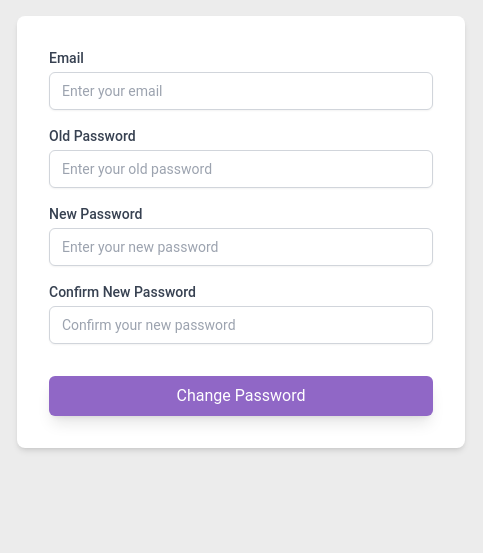
Scenario: ChangePasswordForm suite tests › should display validation errors
Click the button "Change Password" at (241, 396), box [49,376,433,416]
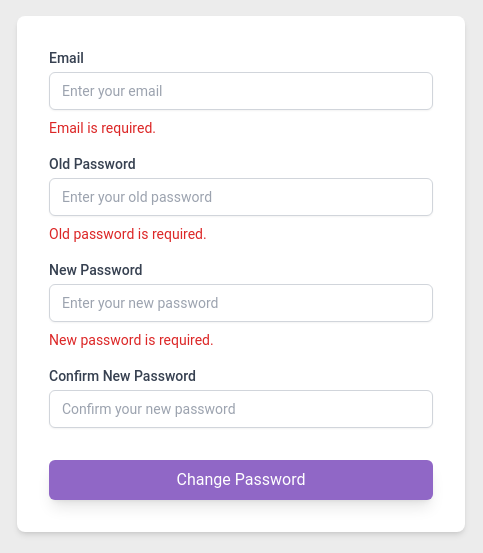
Expected: the text "Email is required." is shown, [49,120,156,136]
Expected: the text "Old password is required." is shown, [49,226,207,242]
Expected: the text "New password is required." is shown, [49,332,214,348]
Type "test@example.com" into the field with placeholder "Enter your email" at (241, 91), box [49,72,433,110]
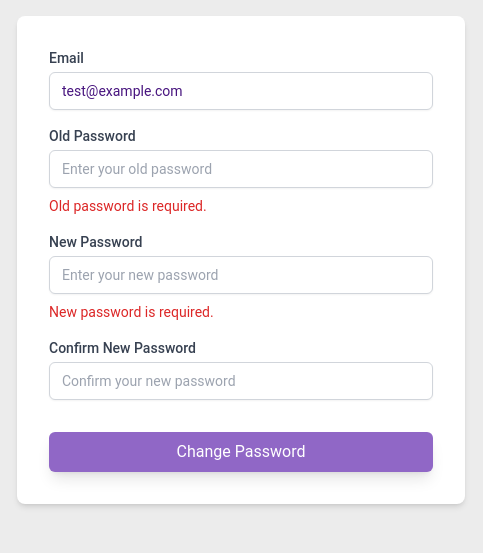
Type "OldPassword1!" into the password field with placeholder "Enter your old password" at (241, 169), box [49,150,433,188]
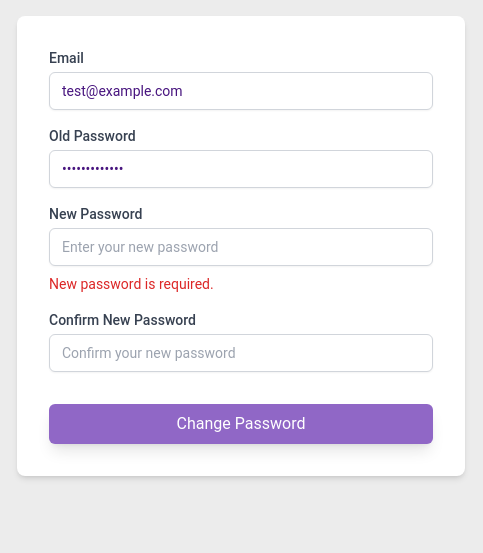
Type "NewPassword1!" into the password field with placeholder "Enter your new password" at (241, 247), box [49,228,433,266]
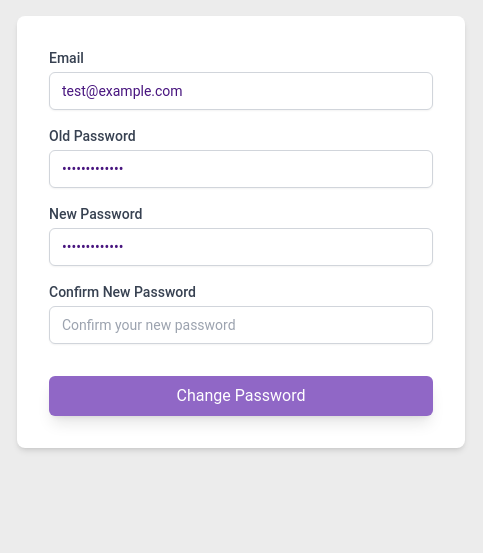
Type "DifferentPassword1!" into the password field with placeholder "Confirm your new password" at (241, 325), box [49,306,433,344]
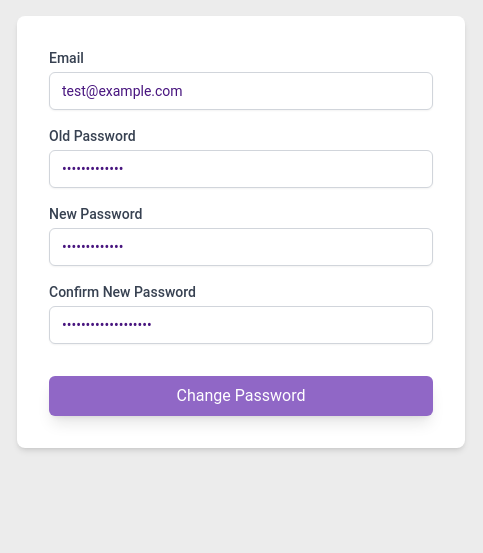
Click the button "Change Password" at (241, 396), box [49,376,433,416]
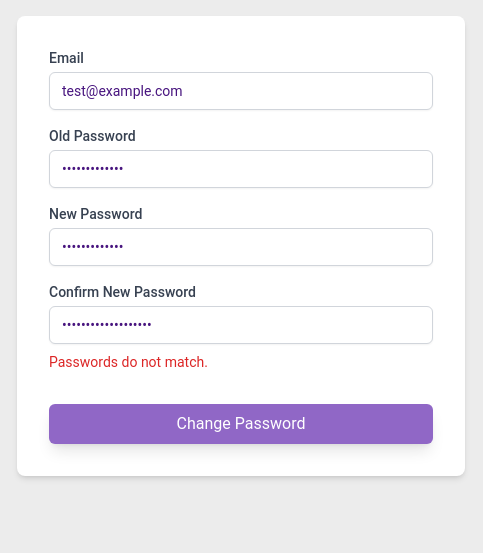
Expected: the text "Passwords do not match." is shown, [49,354,208,370]
